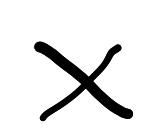mult: (34, 40, 133, 122)
